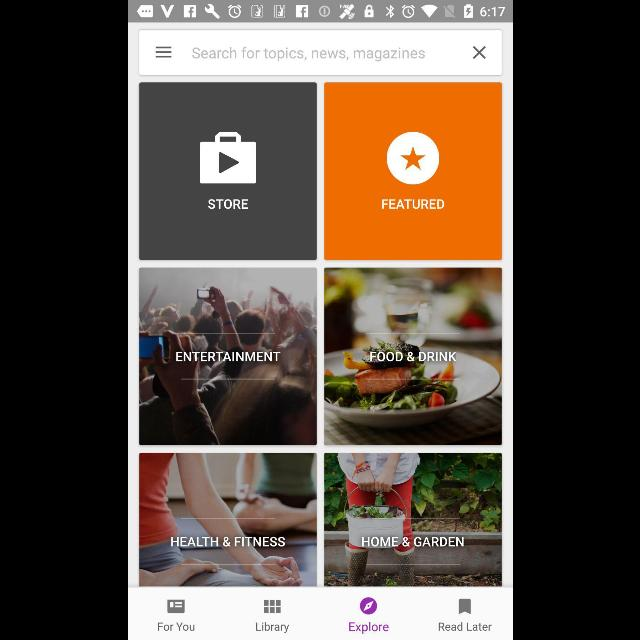icon: (198, 132, 256, 184), (386, 132, 438, 186), (359, 598, 376, 614), (166, 599, 184, 613), (264, 599, 280, 613), (472, 46, 486, 60), (458, 598, 470, 614), (155, 46, 171, 58)
image: (323, 268, 501, 446), (138, 268, 316, 446), (323, 83, 501, 261), (138, 82, 316, 260), (323, 453, 501, 587), (138, 452, 316, 586)
input: (138, 30, 502, 76)
text: (192, 46, 424, 62), (170, 537, 284, 547), (174, 352, 280, 362), (361, 537, 463, 547), (369, 352, 456, 362), (381, 199, 444, 209), (438, 622, 490, 632), (348, 622, 388, 634), (206, 199, 248, 209), (255, 622, 289, 634), (158, 622, 195, 632)
uppertaskbar: (128, 1, 512, 23)
